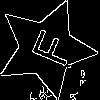F: (21, 23, 77, 70)
